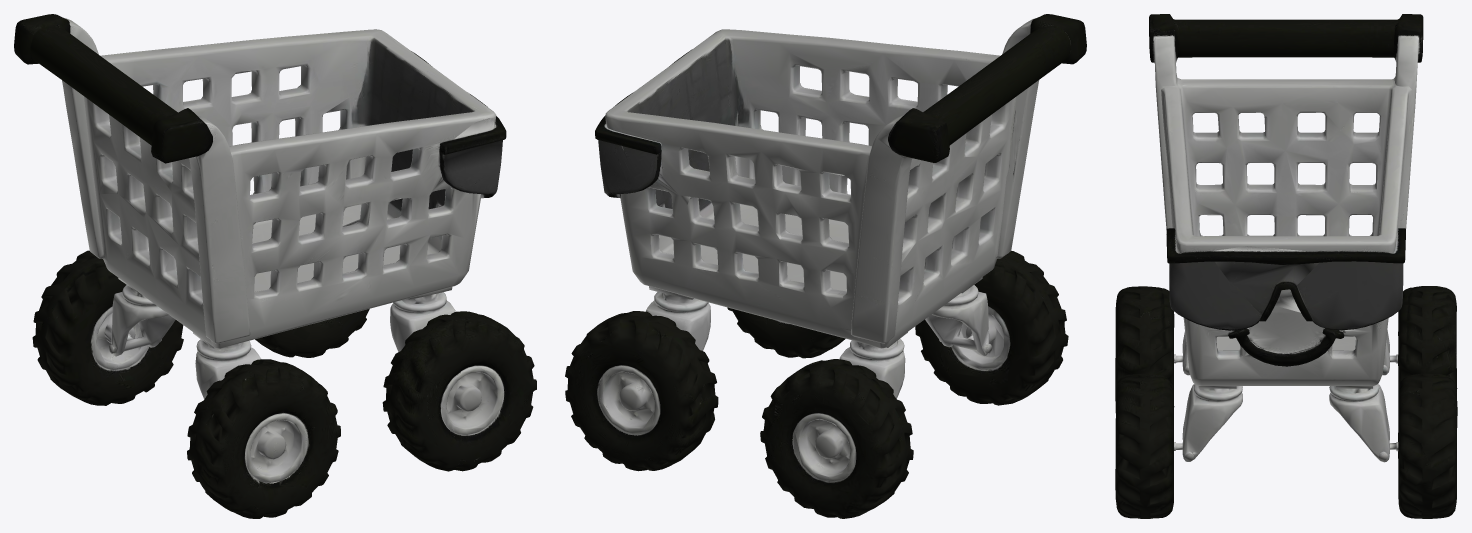
File: cartrave4-draco.glb
3 views of the same model, side by side, from view 1: azimuth 30°, elevation 25°; view 2: azimuth 150°, elevation 25°; view 3: azimuth 270°, elevation 25° (orthographic). The views are drawn at different scales.
Visible parts, largest first — view 1: tripo_part_0, tripo_part_3, tripo_part_2, tripo_part_4, tripo_part_15, tripo_part_10, tripo_part_16, tripo_part_13, tripo_part_1, tripo_part_9, tripo_part_6, tripo_part_5 (+1 smaller); view 2: tripo_part_0, tripo_part_1, tripo_part_4, tripo_part_2, tripo_part_16, tripo_part_10, tripo_part_15, tripo_part_3, tripo_part_5, tripo_part_11, tripo_part_14, tripo_part_13 (+1 smaller); view 3: tripo_part_0, tripo_part_10, tripo_part_1, tripo_part_3, tripo_part_8, tripo_part_11, tripo_part_2, tripo_part_4, tripo_part_9, tripo_part_6, tripo_part_14, tripo_part_16 (+2 smaller).
Part boxes in pixels (x1,y1,x2,y2): tripo_part_0: (84,29,496,348); tripo_part_3: (382,311,536,471); tripo_part_2: (187,359,340,518); tripo_part_4: (32,250,183,405); tripo_part_15: (151,108,250,343); tripo_part_10: (30,25,177,145); tripo_part_16: (14,14,103,258); tripo_part_13: (108,278,175,356); tripo_part_1: (255,309,369,357); tripo_part_9: (439,140,502,198); tripo_part_6: (390,287,455,351); tripo_part_5: (193,332,260,399); tripo_part_0: (605,29,1015,348); tripo_part_1: (565,311,718,471); tripo_part_4: (760,359,913,518); tripo_part_2: (915,251,1068,405); tripo_part_16: (851,108,949,343); tripo_part_10: (923,26,1070,145); tripo_part_15: (997,14,1086,258); tripo_part_3: (727,307,845,358); tripo_part_5: (925,277,989,356); tripo_part_11: (598,140,661,197); tripo_part_14: (646,286,710,350); tripo_part_13: (839,332,907,398); tripo_part_0: (1161,78,1411,385); tripo_part_10: (1172,19,1398,57); tripo_part_1: (1397,373,1457,518); tripo_part_3: (1115,374,1174,518); tripo_part_8: (1166,228,1405,321); tripo_part_11: (1297,261,1403,330); tripo_part_2: (1115,286,1175,412); tripo_part_4: (1397,286,1457,395); tripo_part_9: (1169,261,1261,330); tripo_part_6: (1182,384,1242,461); tripo_part_14: (1329,384,1389,462); tripo_part_16: (1394,14,1423,228).
Size of the model in its own units: 0.9333 by 1 by 0.8309.
24 materials, 24 textured.
